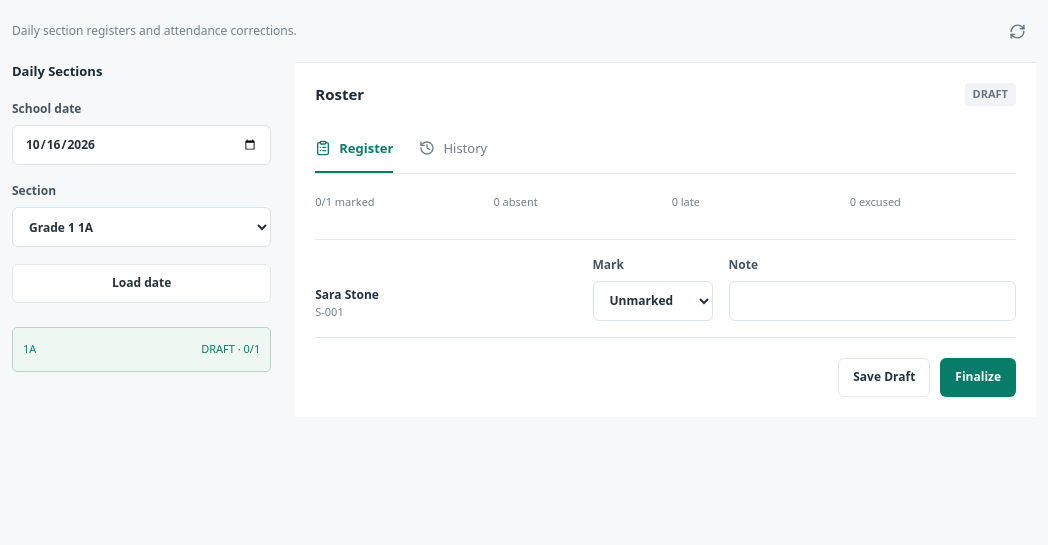
AttendanceWorkspace › loads a roster, saves a draft, and finalizes attendance
Check: the text "Sara Stone" is shown, box [315,286,379,303]
Select "PRESENT" in the dropdown labelled "Mark" at point(652, 300), box [592,280,712,320]
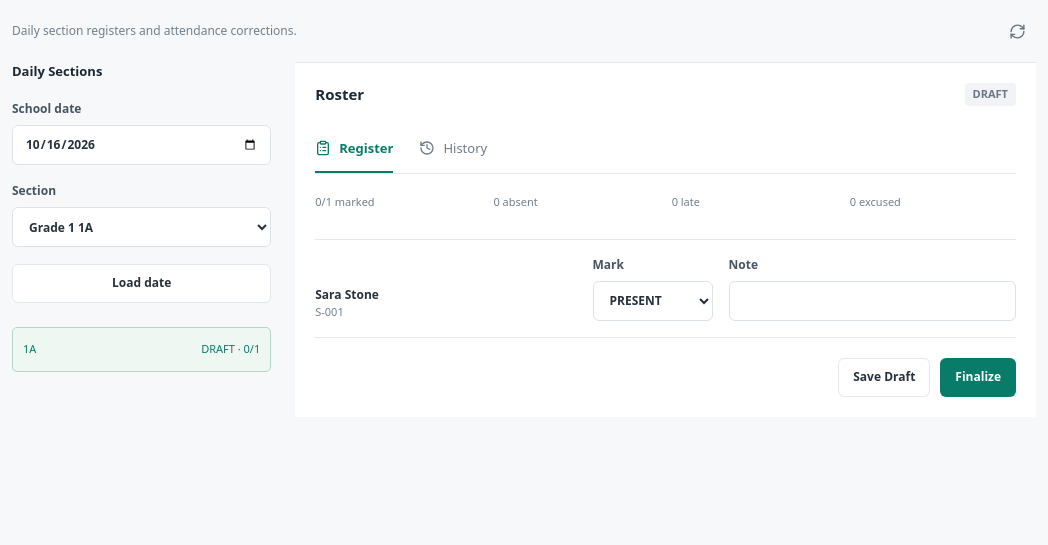
Click the button "Save Draft" at point(884, 377), box [838,358,930,396]
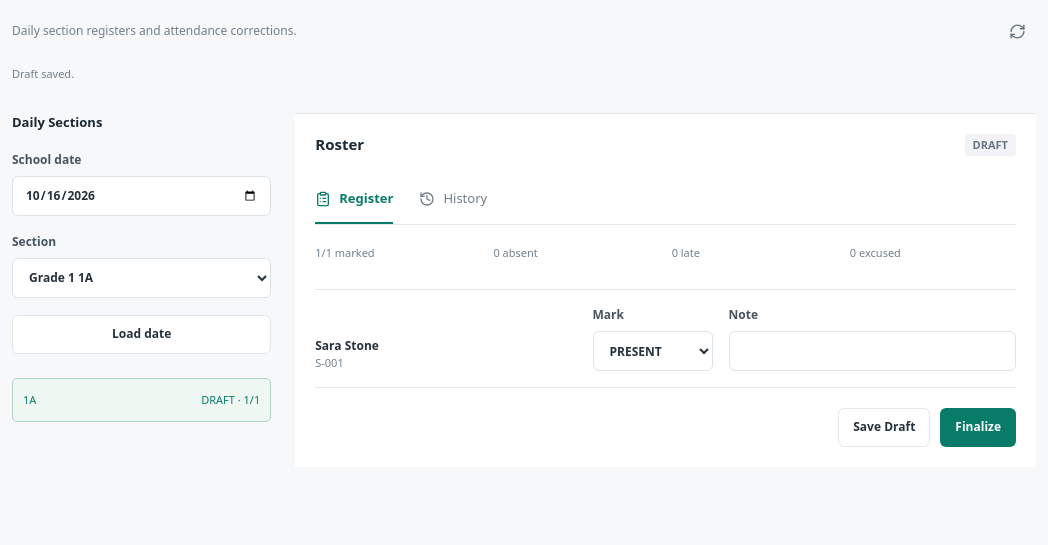
Check: the text "Draft saved." is shown, box [12,66,74,81]
Click the button "Finalize" at point(978, 428), box [940,408,1016,447]
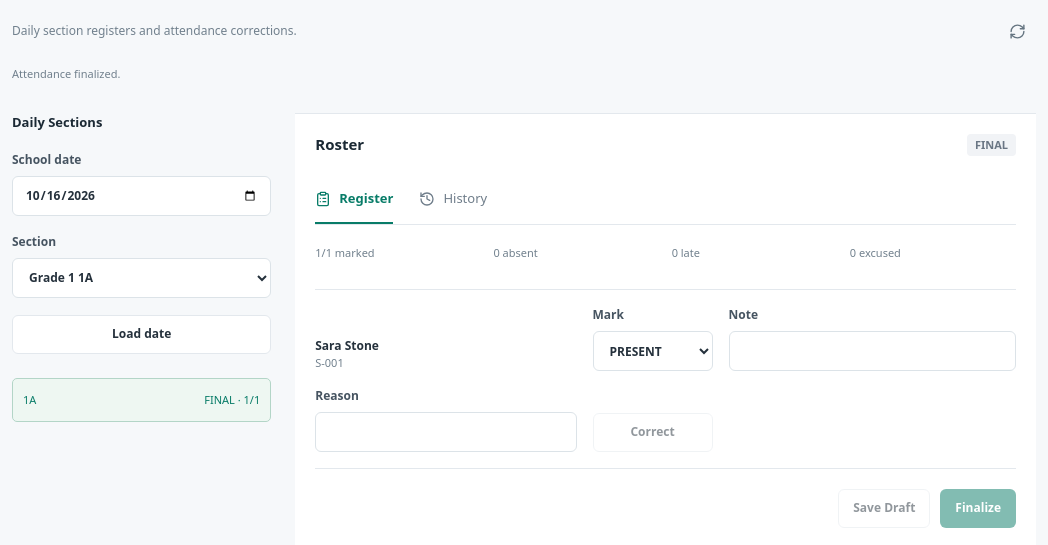
Check: the button "1A FINAL · 1/1" is shown, box [12,378,271,422]
Check: the text "Attendance finalized." is shown, box [12,66,120,81]
